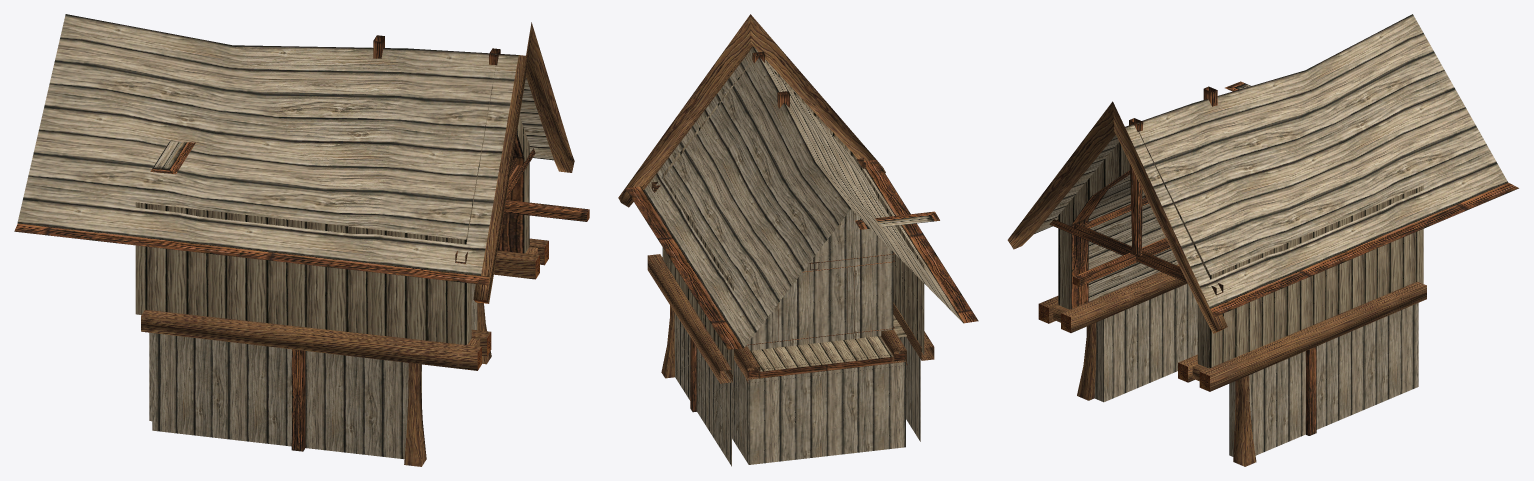
File: LAKETOWN_EXTERIOR_PS_LT_BOATHOUSE93837__GX.fbx
The picture shows the model from 3 angles, left to right: view 1: azimuth 30°, elevation 25°; view 2: azimuth 150°, elevation 25°; view 3: azimuth 270°, elevation 25°; orthographic projection. The views are drawn at different scales.
Parts seen in each view (by area): view 1: LAKETOWN_EXTERIOR_PS_LT_BOATHOUSE93837__GX; view 2: LAKETOWN_EXTERIOR_PS_LT_BOATHOUSE93837__GX; view 3: LAKETOWN_EXTERIOR_PS_LT_BOATHOUSE93837__GX.
Part boxes in pixels (bbox=[...]): LAKETOWN_EXTERIOR_PS_LT_BOATHOUSE93837__GX: bbox=[14, 14, 589, 466]; LAKETOWN_EXTERIOR_PS_LT_BOATHOUSE93837__GX: bbox=[618, 14, 978, 466]; LAKETOWN_EXTERIOR_PS_LT_BOATHOUSE93837__GX: bbox=[1007, 14, 1518, 466].
Size of the model in its own units: 131338 by 99307 by 131338.
9 materials, 9 textured.
